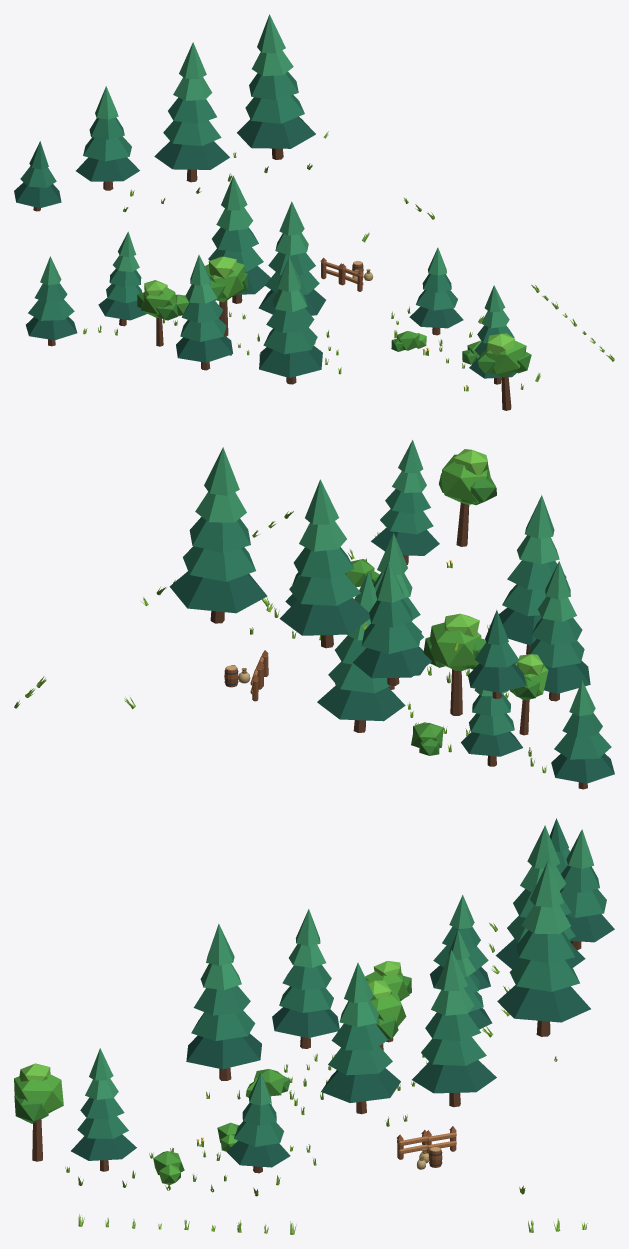
The model's file is Colony_Meadow_Scatter_A.fbx.
3 views of the same model, one above another, from view 1: azimuth 30°, elevation 25°; view 2: azimuth 150°, elevation 25°; view 3: azimuth 270°, elevation 25° (orthographic). The views are drawn at different scales.
Visible parts, largest first — view 1: Colony_Meadow_Scatter_A.001; view 2: Colony_Meadow_Scatter_A.001; view 3: Colony_Meadow_Scatter_A.001.
Boxes of the visible parts, box(x1,y1,x2,y2) form: Colony_Meadow_Scatter_A.001: box(14, 14, 614, 410); Colony_Meadow_Scatter_A.001: box(14, 440, 614, 789); Colony_Meadow_Scatter_A.001: box(14, 818, 614, 1234).
Bounding box in the file's own units: 19.07 × 10.1 × 19.01.
